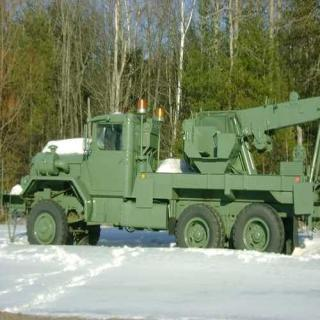Towing_truck: (2, 90, 318, 254)
